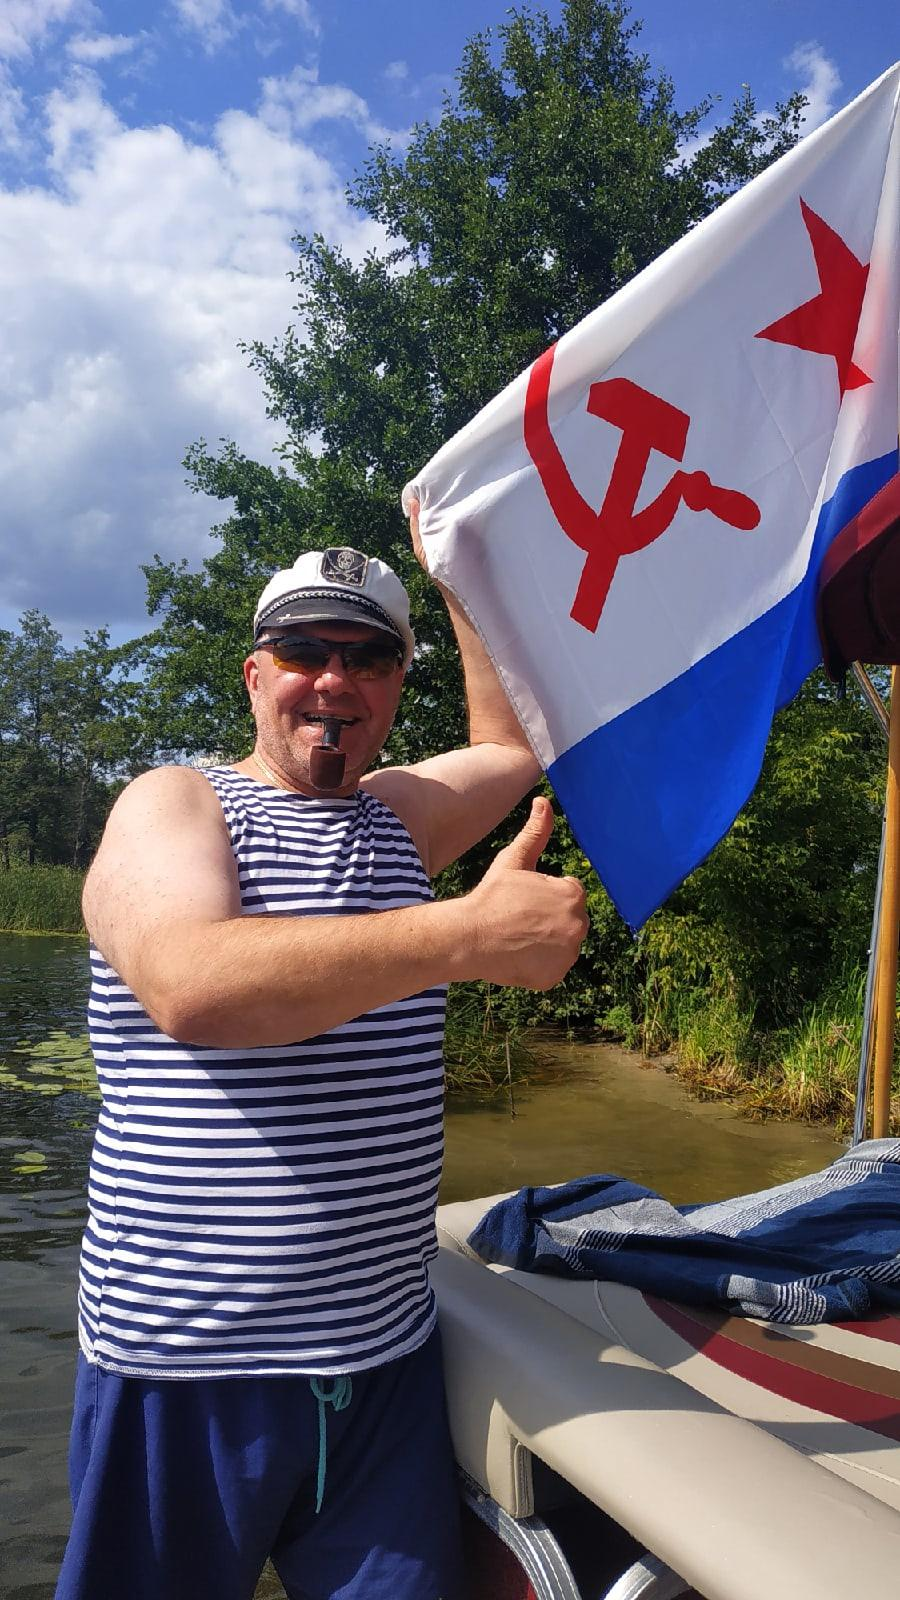trubka: (309, 716, 346, 791)
